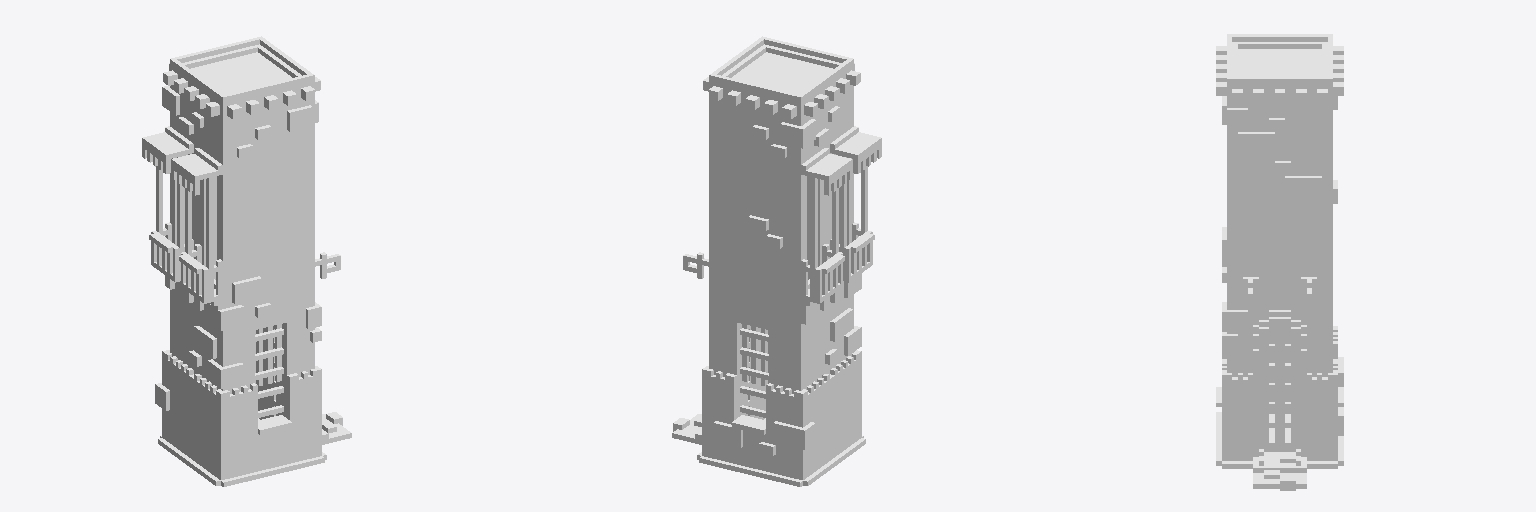
The model's file is TallBuilding03.obj.
3 views of the same model, side by side, from view 1: azimuth 30°, elevation 25°; view 2: azimuth 150°, elevation 25°; view 3: azimuth 270°, elevation 25° (orthographic).
Parts seen in each view (by area): view 1: TallBuilding03; view 2: TallBuilding03; view 3: TallBuilding03.
Part boxes in pixels (bbox=[...]): TallBuilding03: bbox=[142, 36, 351, 486]; TallBuilding03: bbox=[672, 36, 881, 486]; TallBuilding03: bbox=[1216, 34, 1343, 490].
Size of the model in its own units: 3.8 by 8 by 2.4.